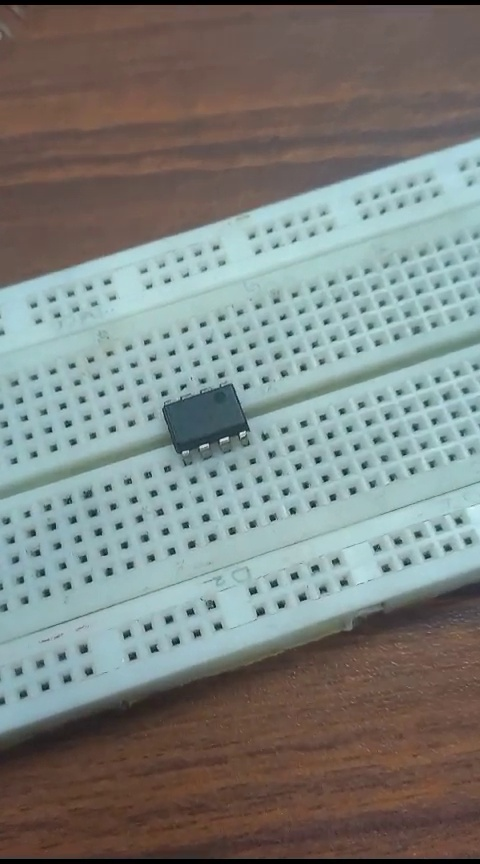IC: (153, 377, 265, 455)
